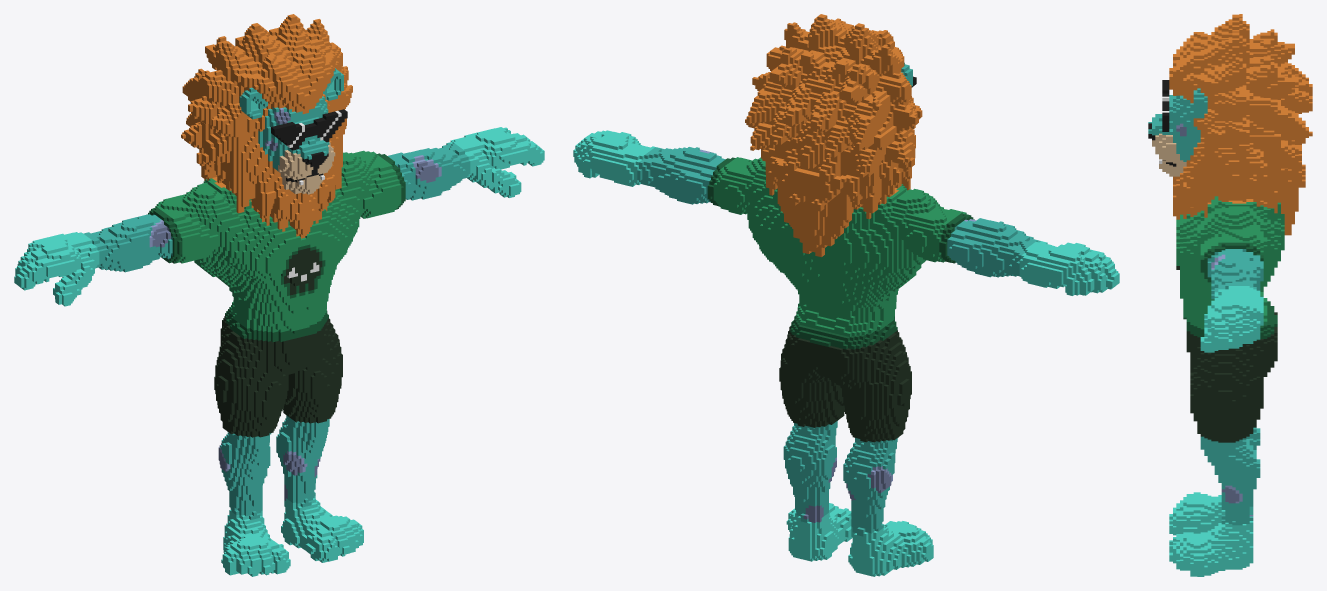
3 renders of one model, left to right at view 1: azimuth 30°, elevation 25°; view 2: azimuth 150°, elevation 25°; view 3: azimuth 270°, elevation 25°, orthographic. The views are drawn at different scales.
Visible parts, largest first — view 1: standard.001; view 2: standard.001; view 3: standard.001.
Part boxes in pixels (x1=…): standard.001: x1=14, y1=14, x2=544, y2=576; standard.001: x1=573, y1=14, x2=1119, y2=576; standard.001: x1=1148, y1=14, x2=1312, y2=576.
Bounding box in the file's own units: 17.2 × 16.5 × 4.7.
5 materials, 5 textured.
